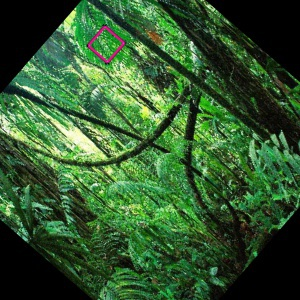square: (84, 22, 127, 67)
